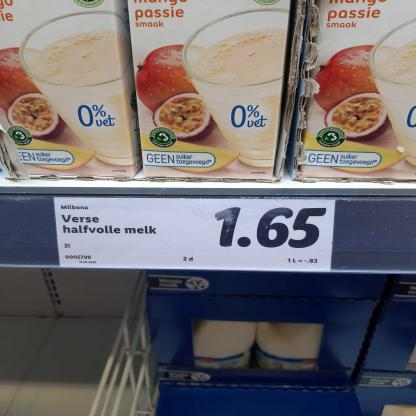prtg: (54, 198, 337, 273)
